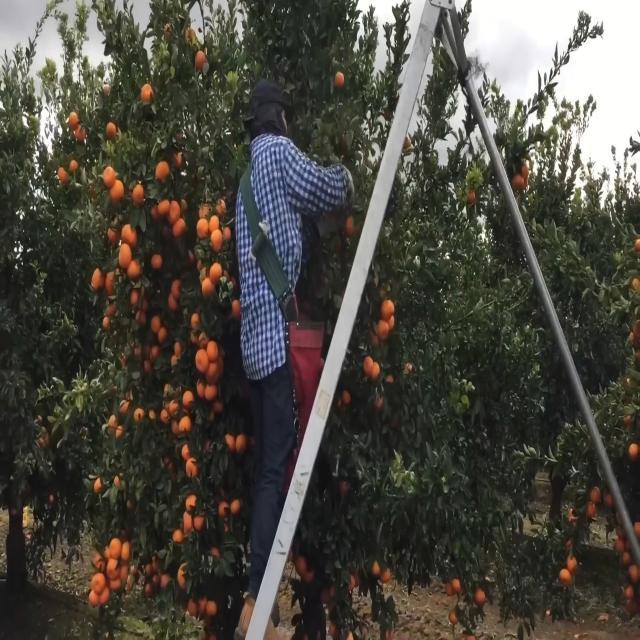Jeruk Sudah Matang: (121, 222, 138, 247), (109, 178, 124, 206), (194, 348, 210, 374), (201, 276, 217, 300), (208, 262, 224, 284), (167, 200, 181, 225), (91, 572, 106, 595), (118, 244, 132, 268), (139, 85, 155, 106), (184, 456, 199, 478), (172, 216, 187, 238), (154, 162, 170, 182), (223, 432, 236, 456), (206, 340, 220, 362), (170, 278, 184, 300), (102, 166, 116, 187), (109, 537, 122, 559), (235, 432, 248, 454), (167, 292, 180, 314), (132, 184, 146, 204), (184, 492, 198, 512), (210, 229, 222, 252), (182, 390, 196, 408), (196, 217, 208, 238), (194, 49, 206, 70), (182, 510, 193, 532), (150, 314, 162, 334), (172, 528, 184, 546), (151, 253, 163, 270), (158, 198, 170, 215), (230, 498, 241, 515), (174, 340, 184, 358)
